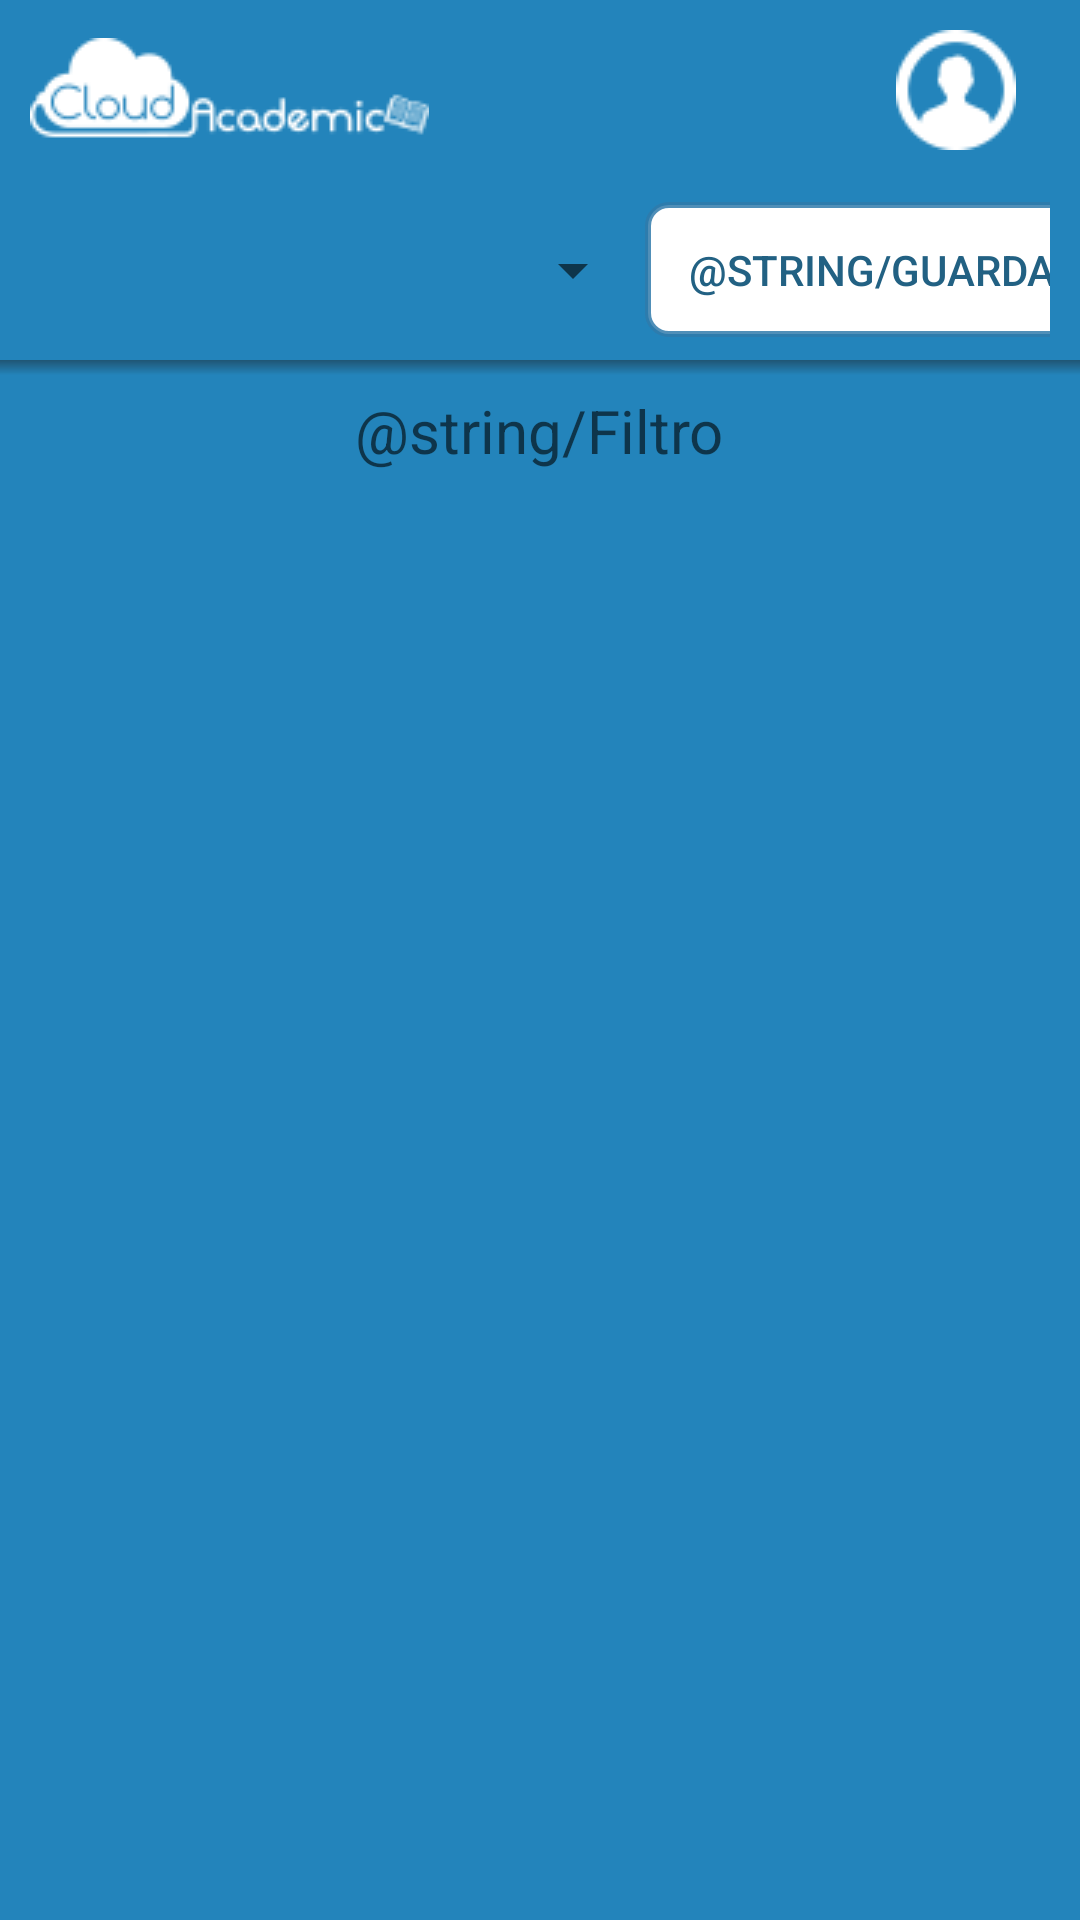

Icons on this 1080px x 1920px Android screen, each with its box as (x1, y1, x2, y2):
user: (896, 30, 1016, 150)
